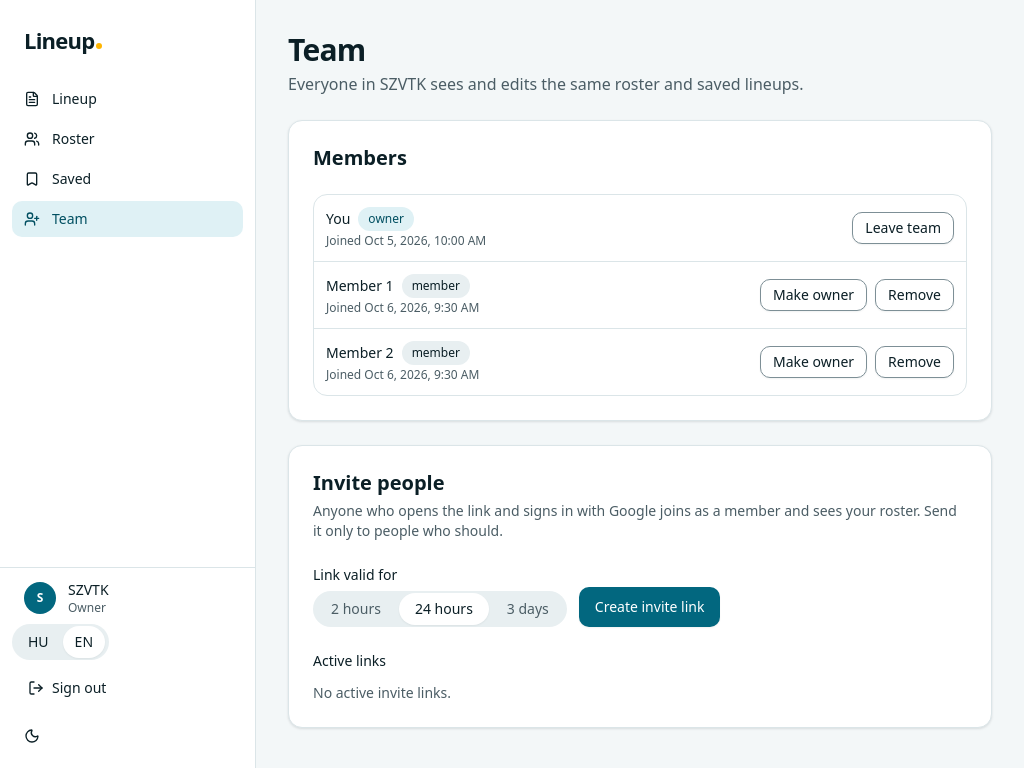
members list › speaks Hungarian
Expected: the text "Member 2" is shown, [326, 343, 394, 362]
Click the button with aria-label "HU – Magyar".
click(38, 642)  # box [16, 626, 61, 658]
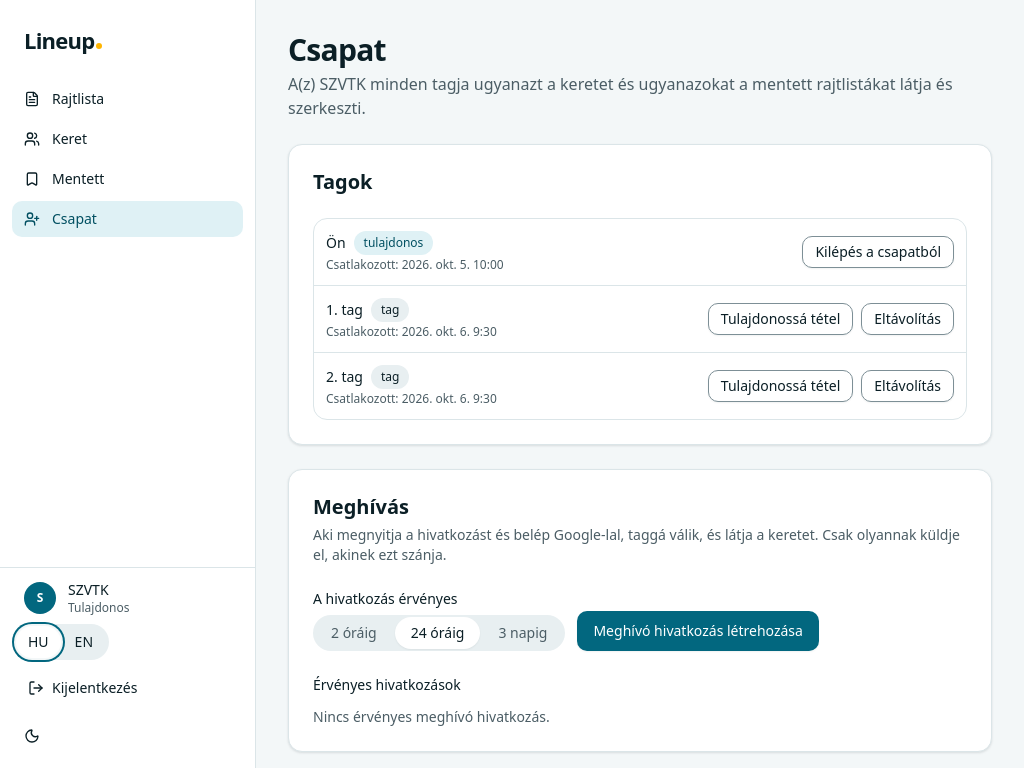
Now the text "2. tag" is shown, box [326, 367, 363, 386]
Now the text "Ön" is shown, box [326, 233, 346, 252]
